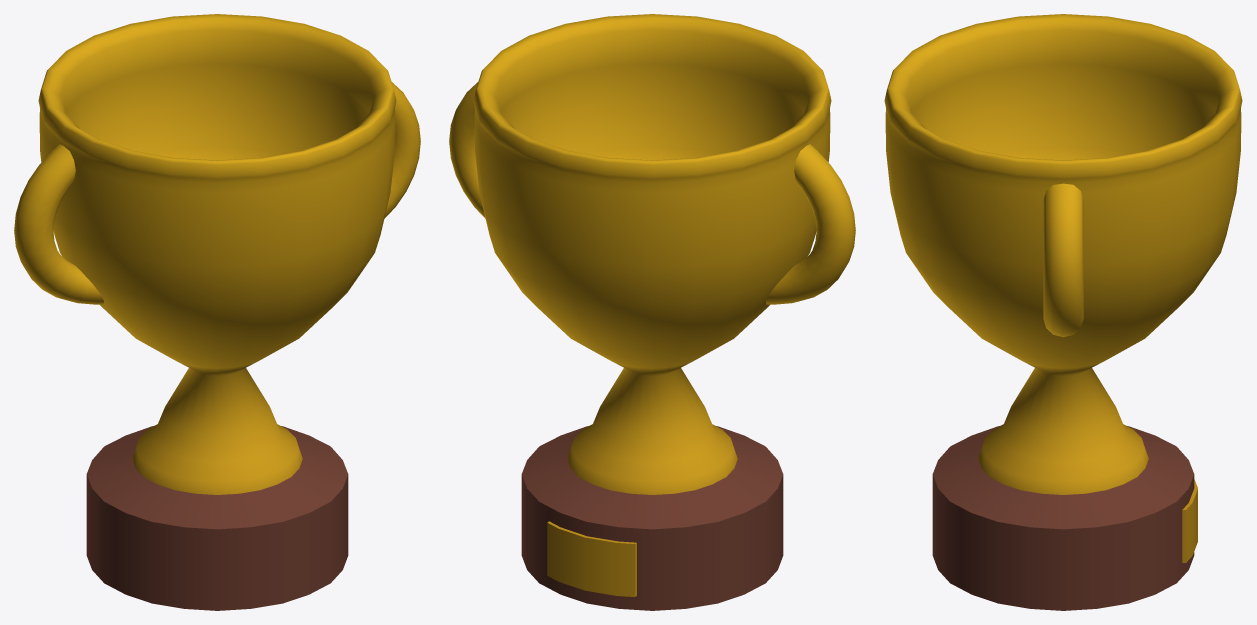
The model's file is Trophy.glb.
3 views of the same model, side by side, from view 1: azimuth 30°, elevation 25°; view 2: azimuth 150°, elevation 25°; view 3: azimuth 270°, elevation 25° (orthographic).
Parts seen in each view (by area): view 1: Trophy; view 2: Trophy; view 3: Trophy.
Boxes of the visible parts, x1,y1,x2,y2 form: Trophy: (14,14,420,610); Trophy: (449,14,855,610); Trophy: (884,14,1242,610).
Bounding box in the file's own units: 0.1076 × 0.12 × 0.0832.
1 material, 1 textured.
